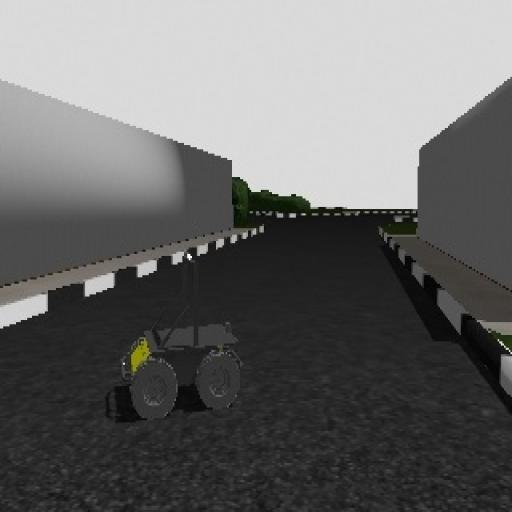huskya200: (103, 243, 247, 432)
